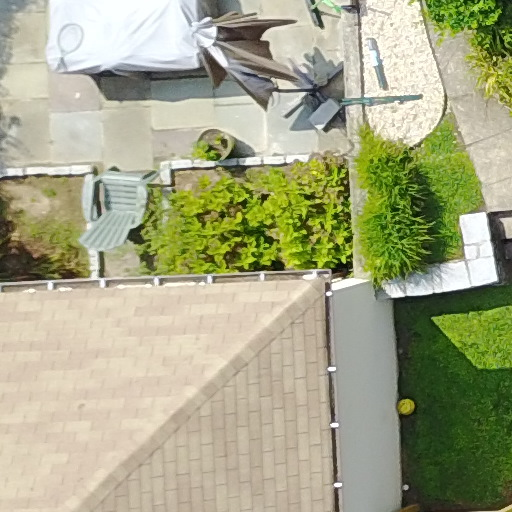container: (395, 397, 418, 422)
flower pot: (186, 125, 241, 182)
